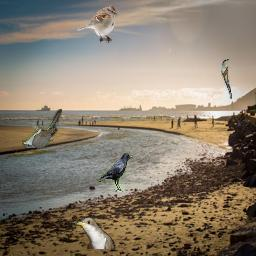Crow: (98, 152, 133, 192)
Cuckoo: (22, 109, 62, 148), (75, 217, 115, 249), (221, 59, 232, 99)
Sparrow: (77, 5, 117, 43)
